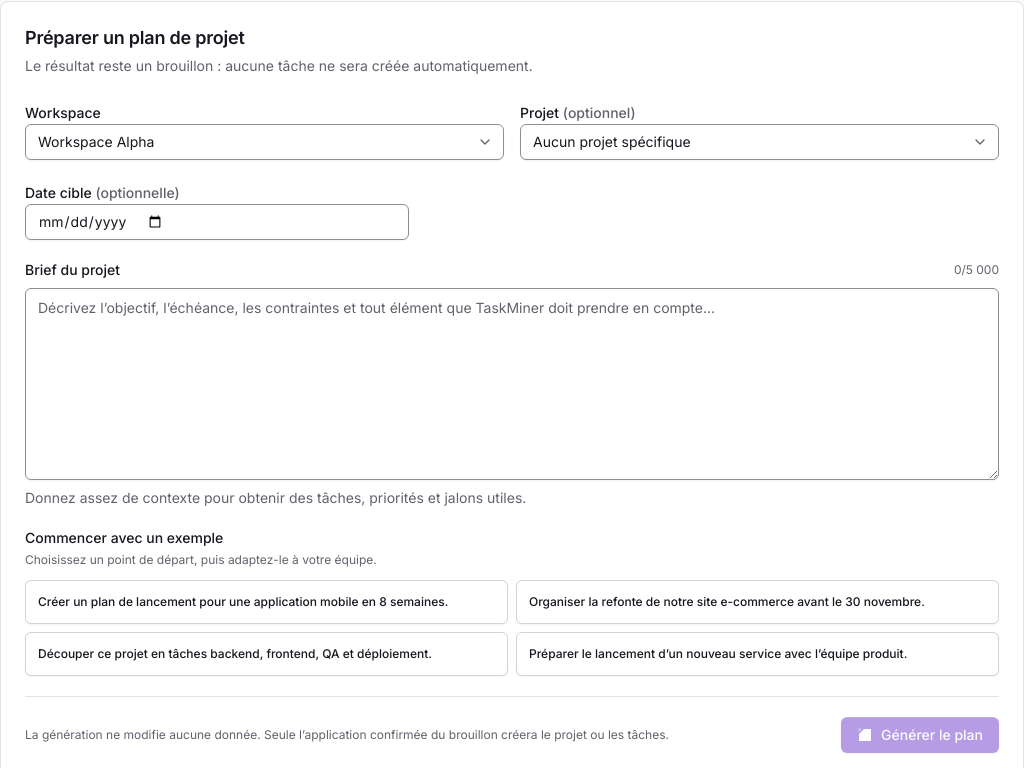
Test case: AIPage › generates and displays a reviewable structured draft
(page scrolled)
Step 1. Type "Prepare the mobile application launch before September." into the text box labelled "Brief du projet" → [512, 384], box [25,288,999,480]
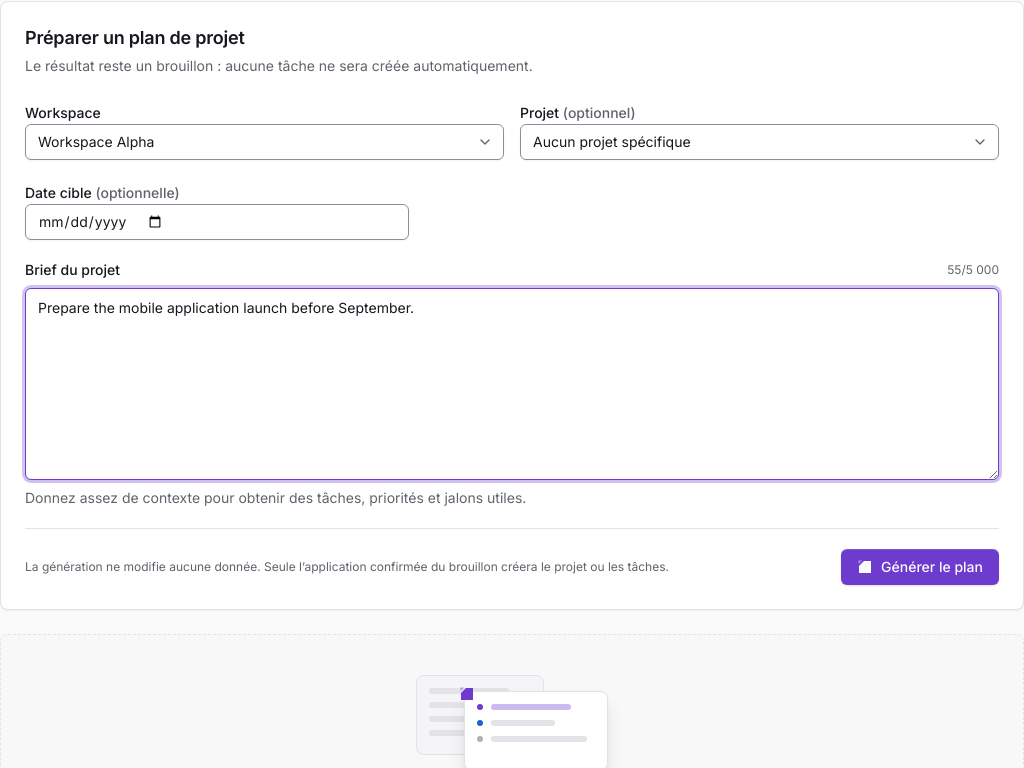
Step 2. Click the button "Générer le plan" → [920, 567], box [841,549,999,585]
(page scrolled)
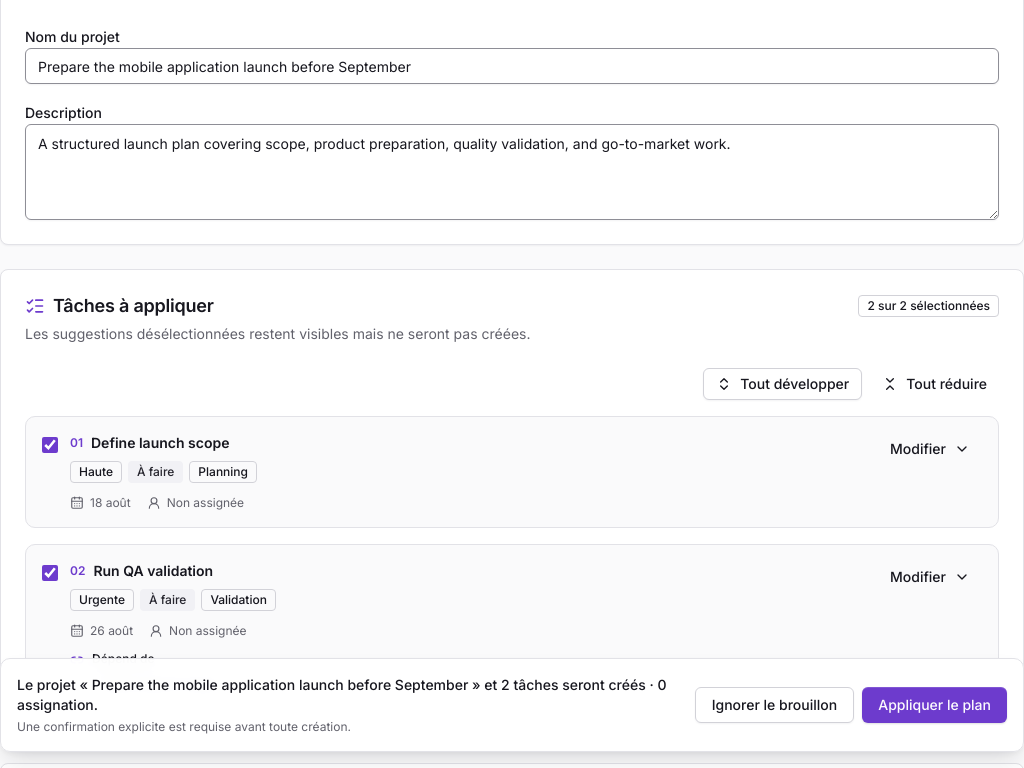
Step 3. Click the button "Tout développer" → [783, 384], box [703,368,862,400]
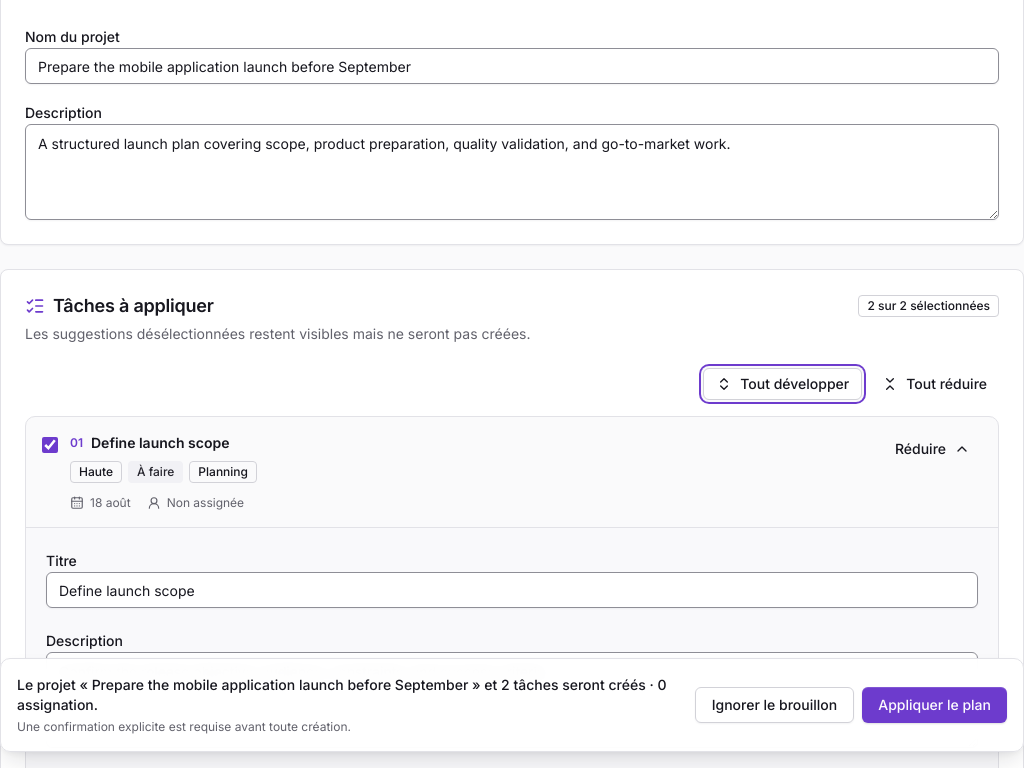
expect the field labelled "Nom du projet" holds "Prepare the mobile application launch before September": met, box [25,48,999,84]
expect the field showing "Define launch scope" is shown: met, box [46,572,978,608]
